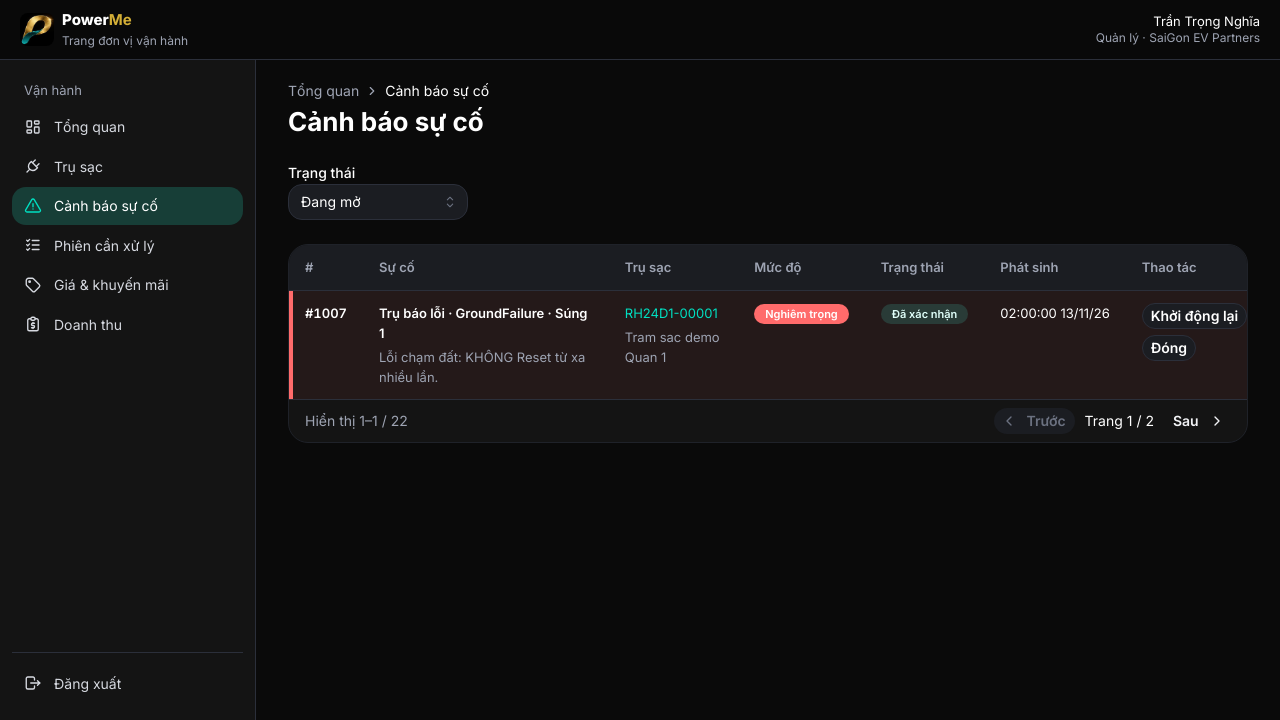
Test case: Cảnh báo sự cố (màn 21) › a page past the end (rows left the filter) falls back to the last page
Later steps or results of the test are not shown.
Click the button with aria-label "Sau ›" at (1198, 421), box left=1164, top=408, right=1231, bottom=434
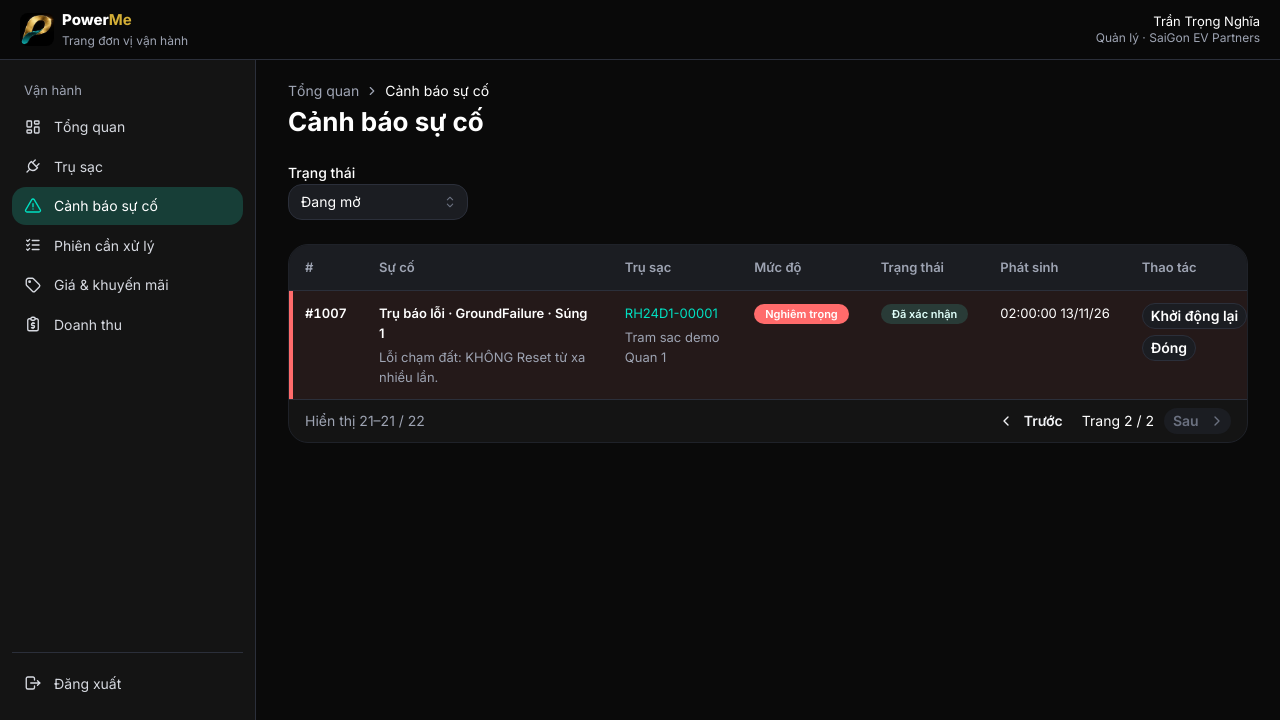
Now the text "Trang 2 / 2" is shown, box left=1082, top=411, right=1154, bottom=431
